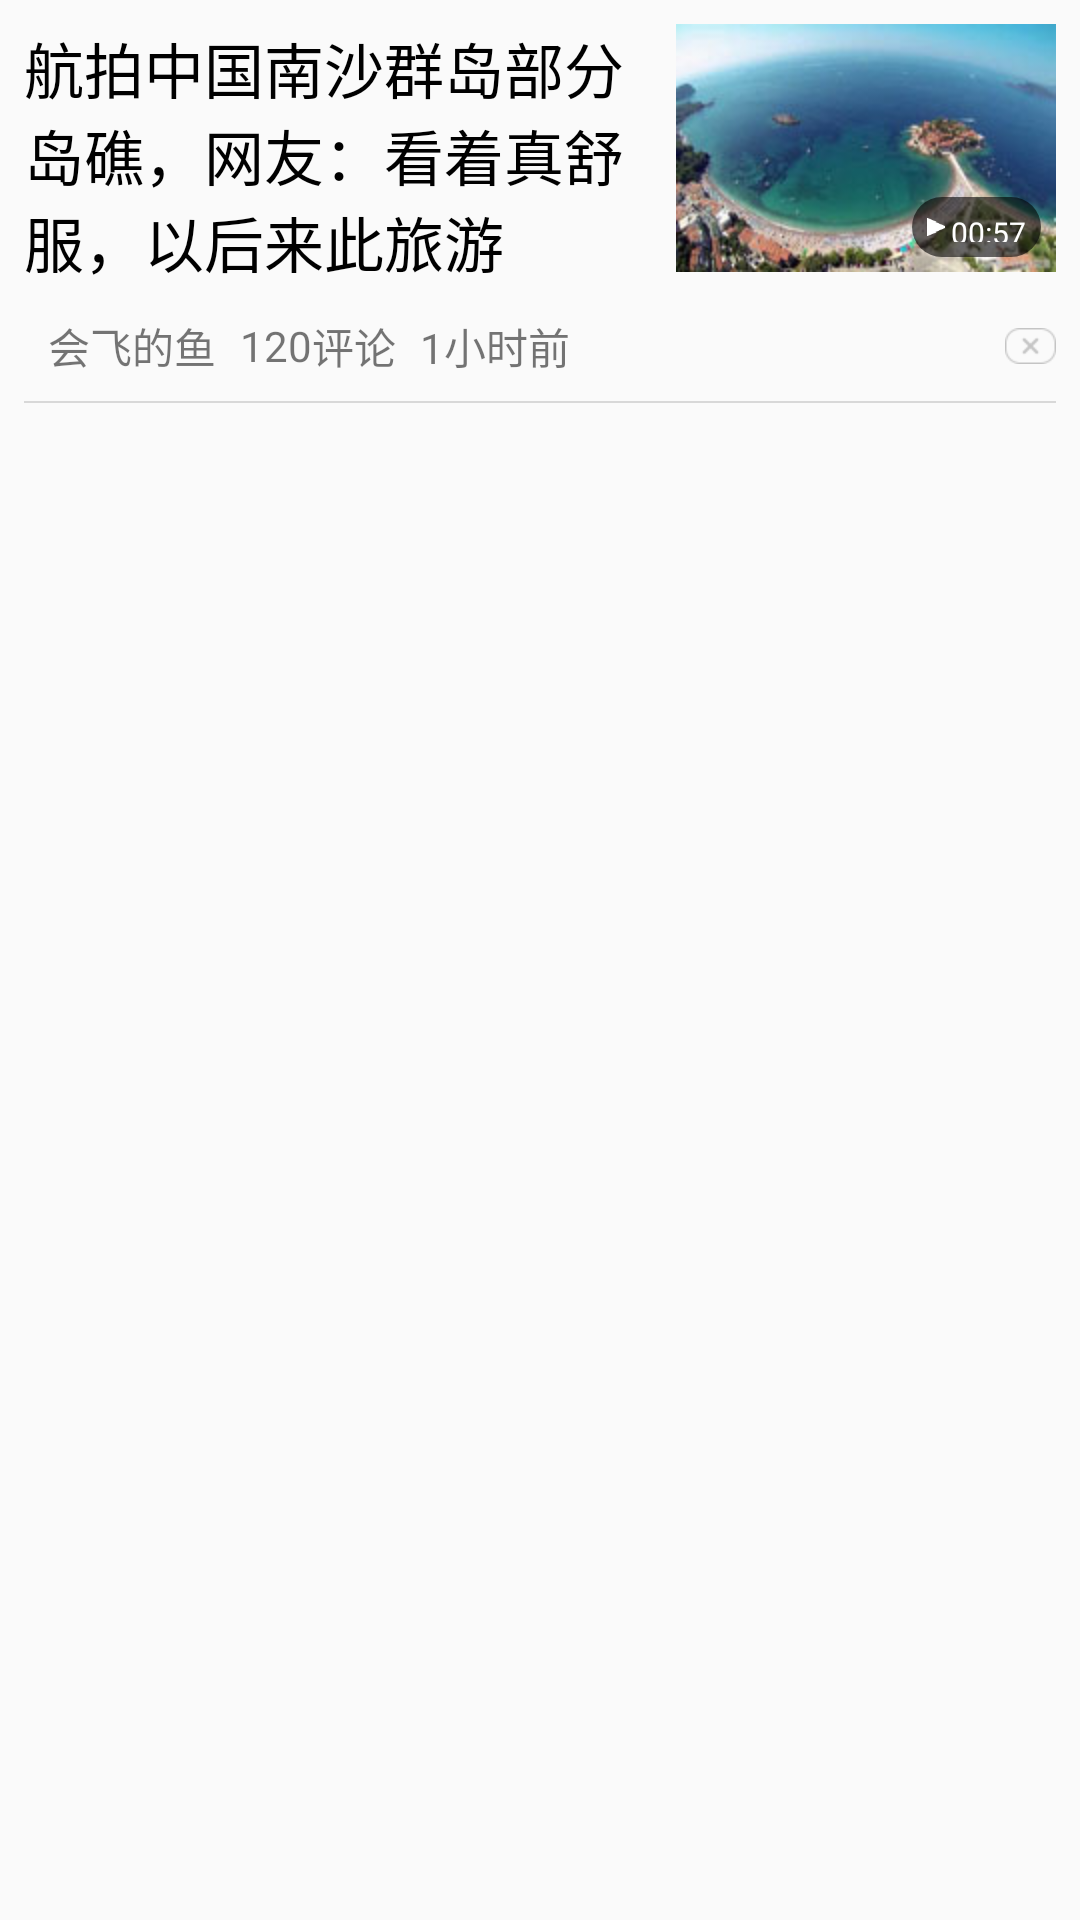

Icons on this 1080 × 1920 Android screen, each with the point to tap as point (x, y):
list cell delete: point (1030, 346)
